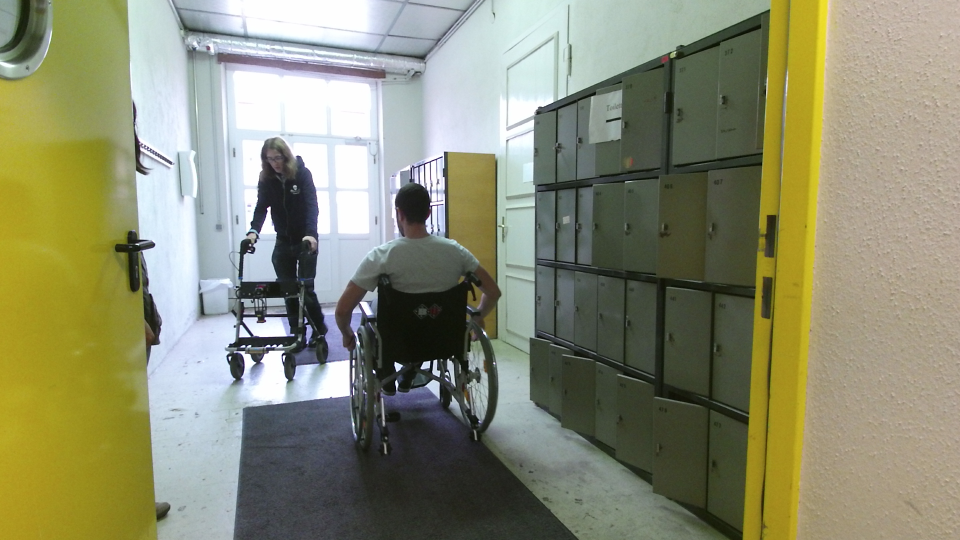wheelchair: (332, 178, 505, 459)
